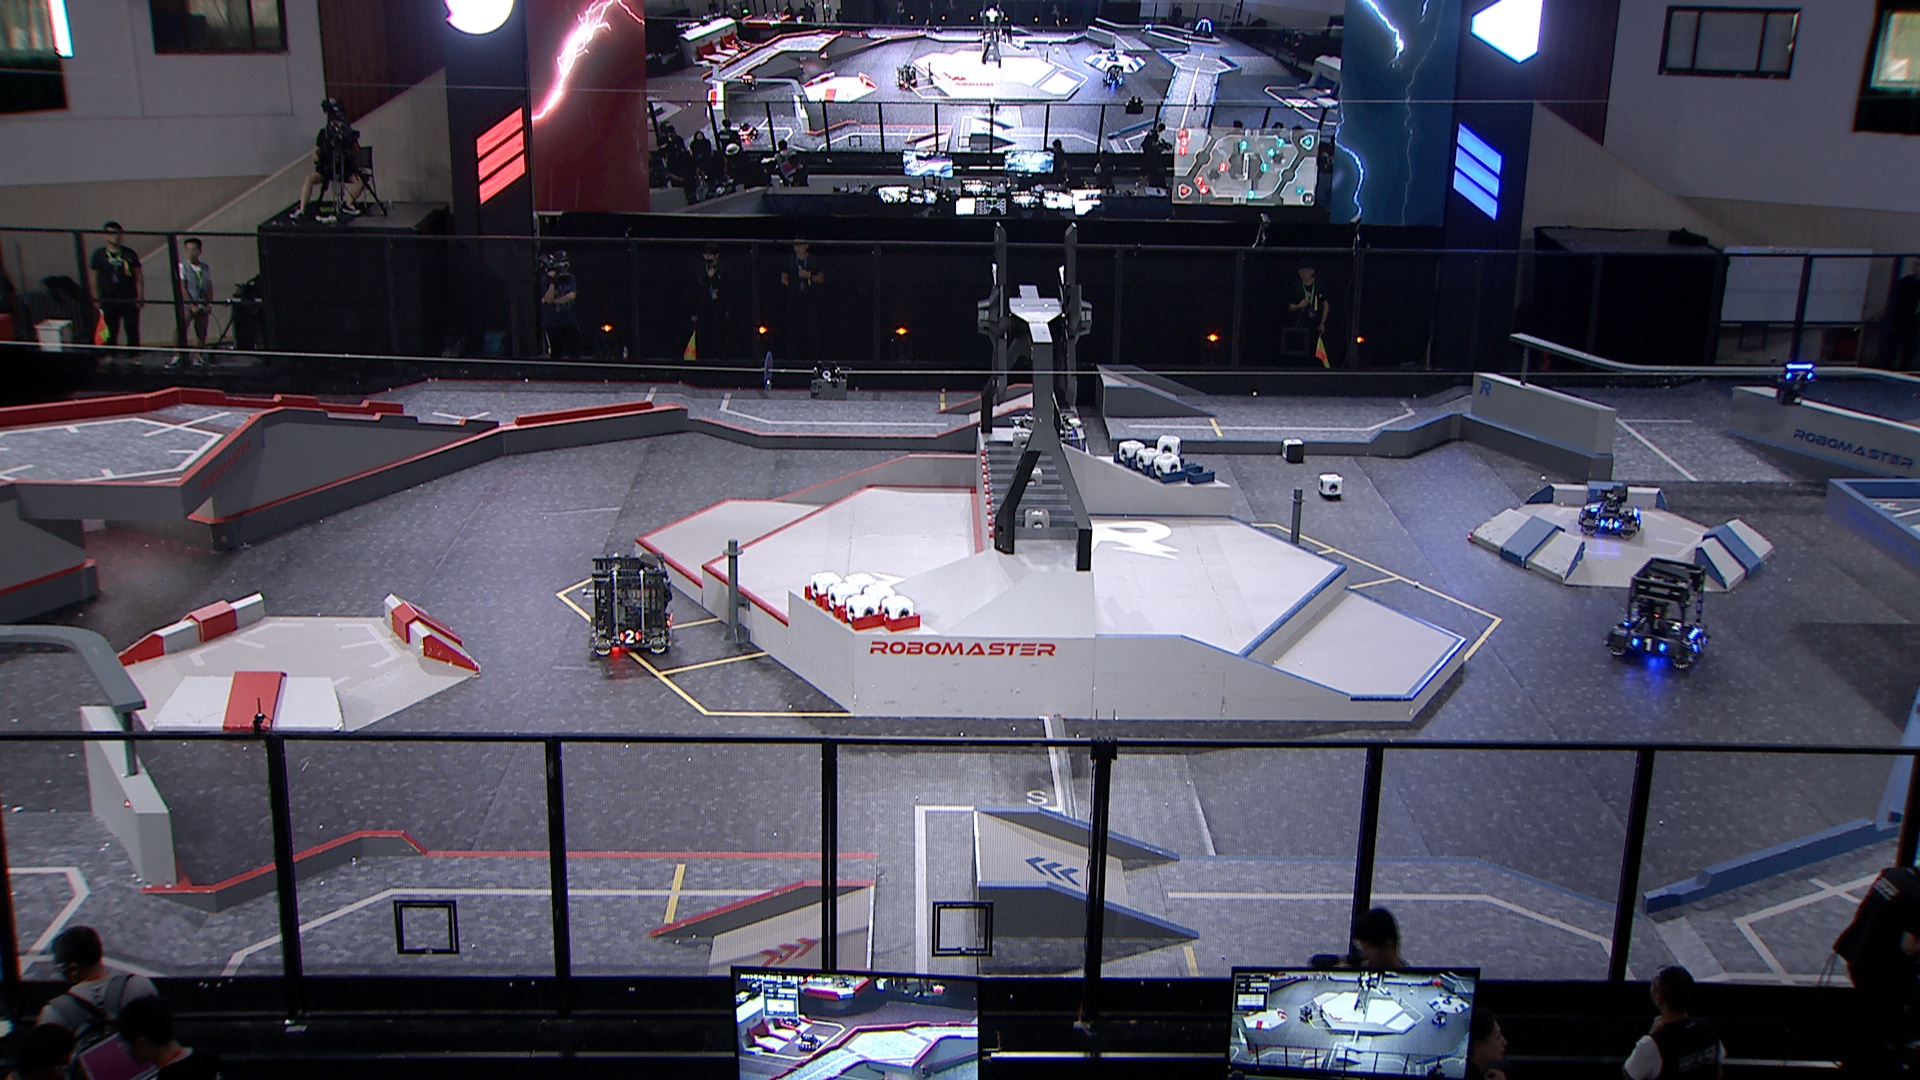armor: (1633, 636, 1665, 654), (615, 628, 644, 646), (1783, 371, 1813, 382), (1600, 517, 1622, 531), (1692, 636, 1706, 655)
car: (1600, 556, 1713, 670), (584, 553, 675, 655), (1007, 411, 1088, 489), (1578, 487, 1644, 542)
ignore: (1101, 63, 1126, 88), (895, 63, 918, 90), (733, 121, 760, 144), (1191, 17, 1215, 40), (738, 73, 757, 91), (1105, 46, 1120, 62)
watcher: (1770, 357, 1815, 406)
